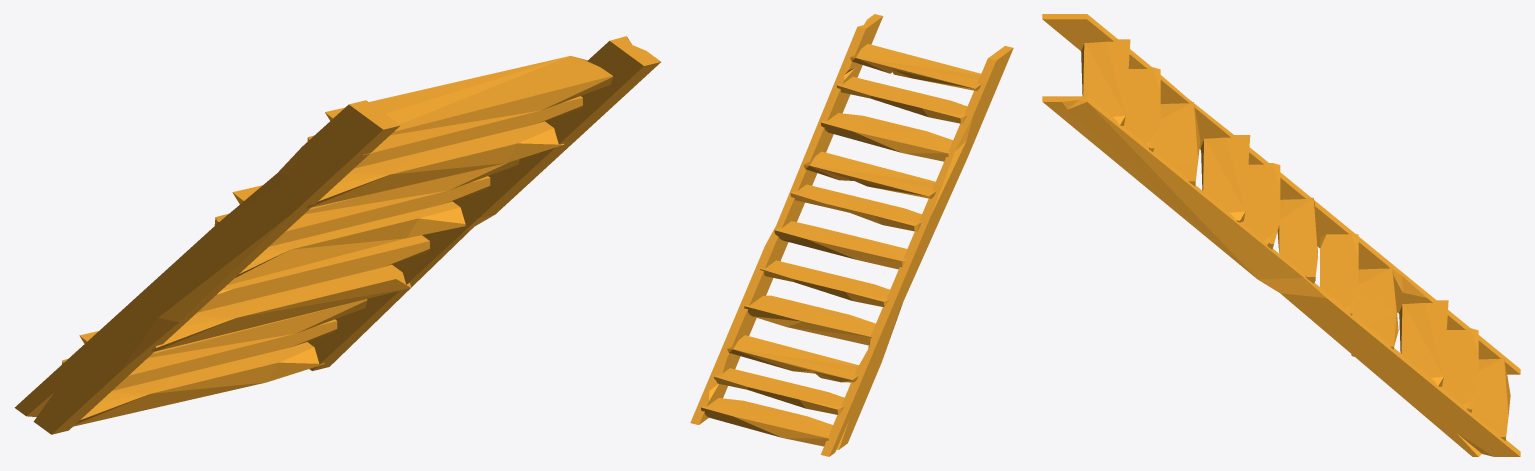
Rendered from SM_Palisade_Gallery_Stairs_3x3m_A.fbx.
3 renders of one model, left to right at view 1: azimuth 30°, elevation 25°; view 2: azimuth 150°, elevation 25°; view 3: azimuth 270°, elevation 25°, orthographic. The views are drawn at different scales.
Visible parts, largest first — view 1: palisade-gallery-stairs-3x3m-a; view 2: palisade-gallery-stairs-3x3m-a; view 3: palisade-gallery-stairs-3x3m-a.
Boxes of the visible parts, <box> form: palisade-gallery-stairs-3x3m-a: <box>14,36,660,434</box>; palisade-gallery-stairs-3x3m-a: <box>690,14,1013,456</box>; palisade-gallery-stairs-3x3m-a: <box>1042,14,1520,456</box>.
Bounding box in the file's own units: 1.6 × 3.01 × 3.68.
